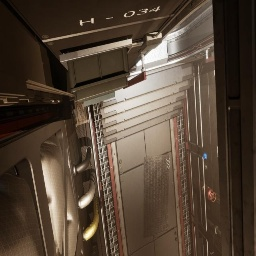NitrogenTank ,: (192, 177, 216, 202)
